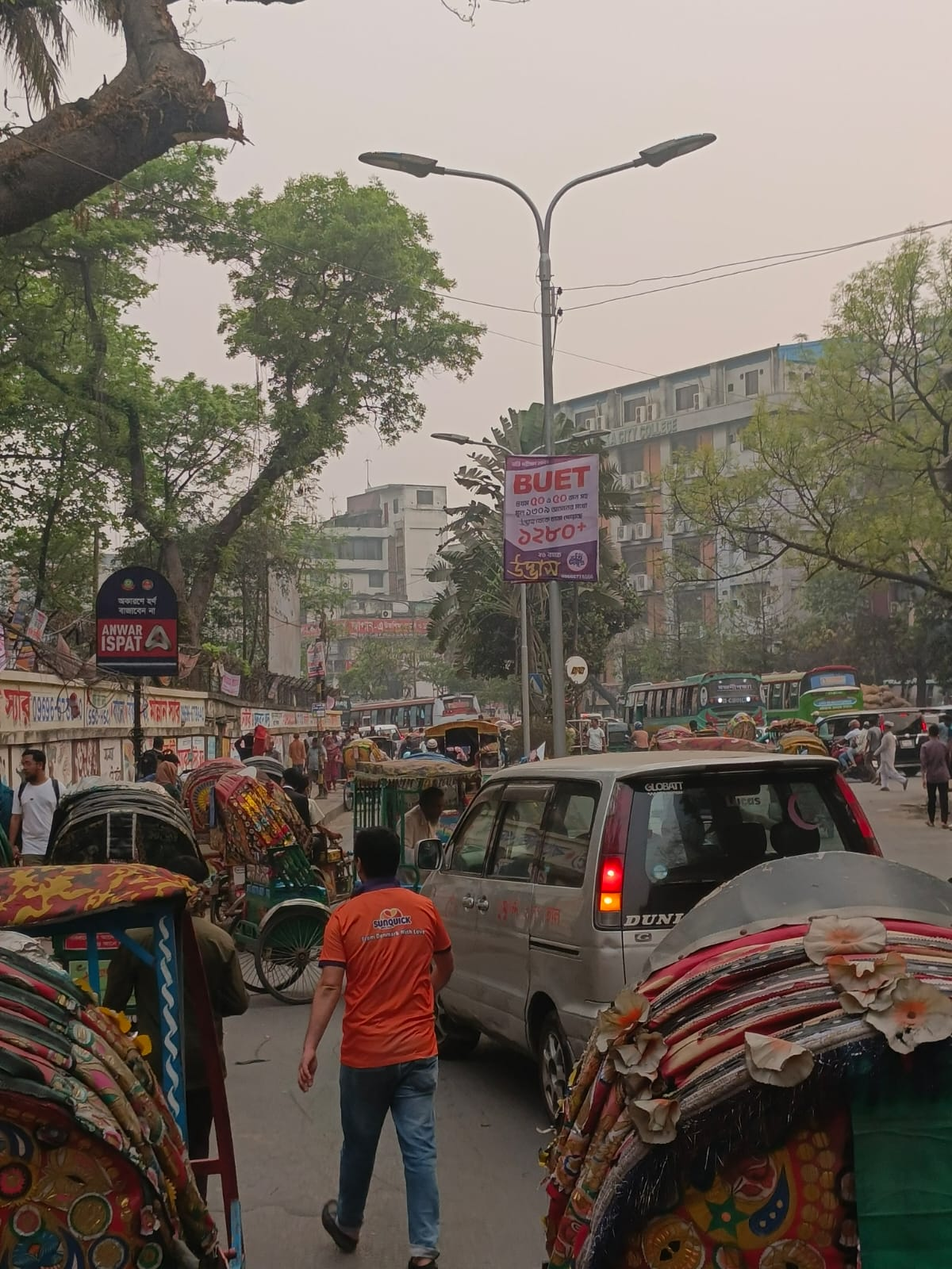Bikes: (842, 722, 901, 804)
Bus: (611, 640, 787, 750), (746, 651, 869, 731), (338, 693, 504, 724)
Leguna: (429, 713, 511, 773)
auto-ricksaw: (500, 862, 952, 1269), (8, 833, 248, 1269), (201, 757, 478, 936), (45, 746, 207, 883)
cng: (602, 717, 638, 756)
private car: (376, 735, 886, 1107), (815, 708, 952, 764)
